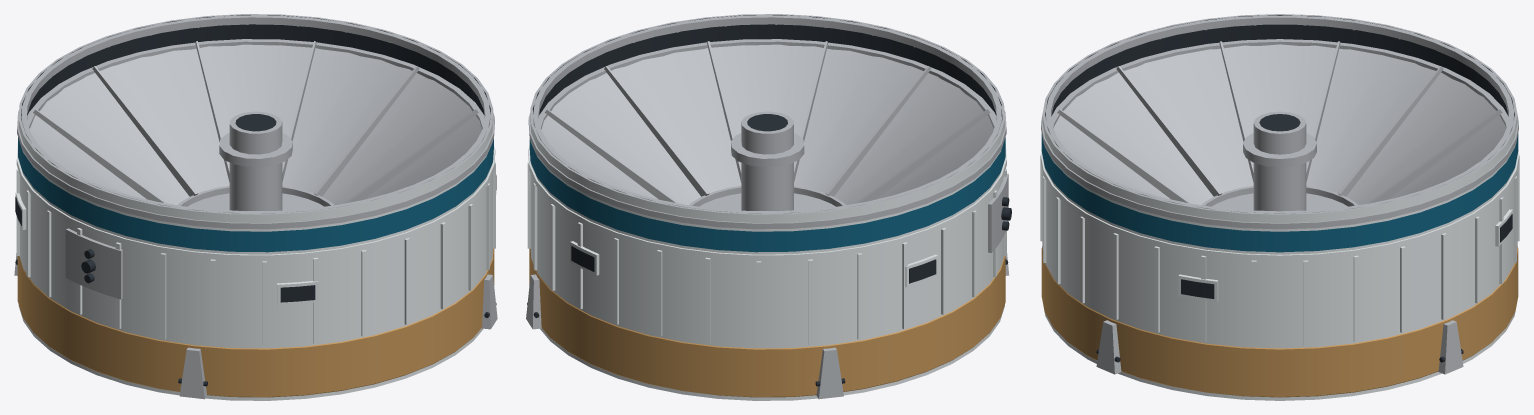
File: mount_s1_1_d37.glb
The picture shows the model from 3 angles, left to right: view 1: azimuth 30°, elevation 25°; view 2: azimuth 150°, elevation 25°; view 3: azimuth 270°, elevation 25°; orthographic projection.
Visible parts, largest first — view 1: mount_s1_1_d37_mesh; view 2: mount_s1_1_d37_mesh; view 3: mount_s1_1_d37_mesh.
Part boxes in pixels (x1=…): mount_s1_1_d37_mesh: x1=14, y1=14, x2=497, y2=400; mount_s1_1_d37_mesh: x1=526, y1=14, x2=1011, y2=400; mount_s1_1_d37_mesh: x1=1040, y1=14, x2=1519, y2=400.
Size of the model in its own units: 3.73 by 1.6 by 3.73.
